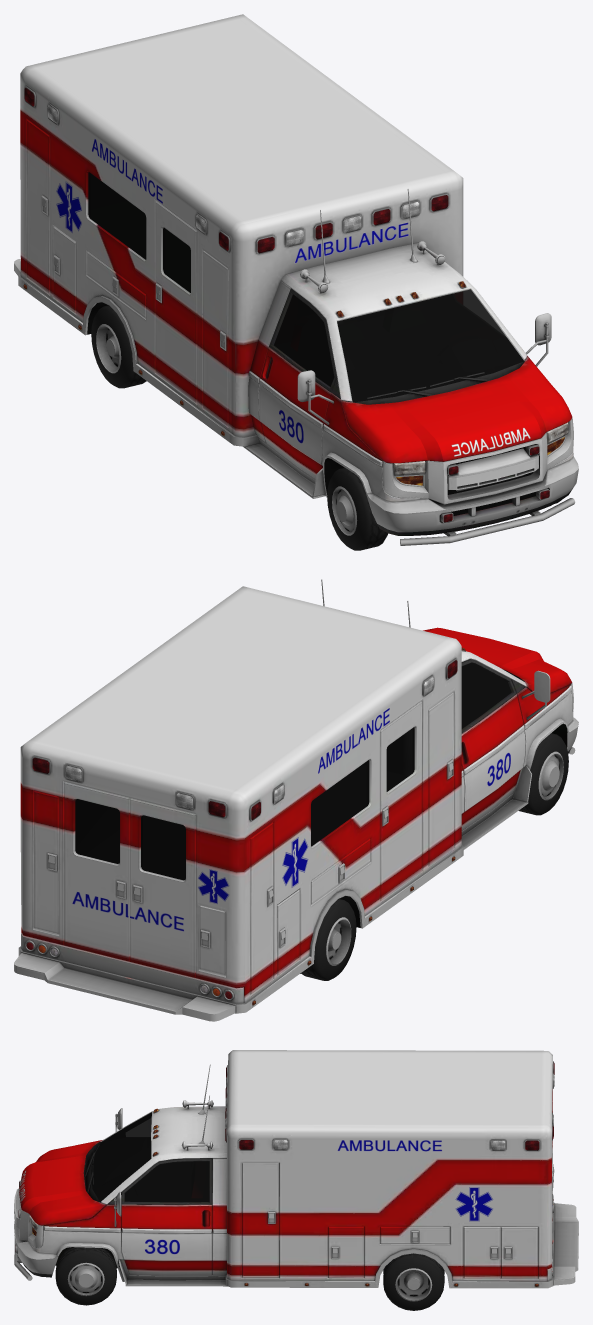
Rendered from ambulance.glb.
3 renders of one model, top to bottom at view 1: azimuth 30°, elevation 25°; view 2: azimuth 150°, elevation 25°; view 3: azimuth 270°, elevation 25°, orthographic. The views are drawn at different scales.
Visible parts, largest first — view 1: ambulance_ambulance_0, ambulance_glass_tex_0, ambulance_optics_tex_0, ambulance_decals_tex_0; view 2: ambulance_ambulance_0, ambulance_glass_tex_0, ambulance_decals_tex_0, ambulance_optics_tex_0; view 3: ambulance_ambulance_0, ambulance_glass_tex_0, ambulance_decals_tex_0, ambulance_optics_tex_0.
Part boxes in pixels (x1=…): ambulance_ambulance_0: x1=14, y1=14, x2=578, y2=550; ambulance_glass_tex_0: x1=88, y1=172, x2=523, y2=402; ambulance_optics_tex_0: x1=23, y1=88, x2=568, y2=522; ambulance_decals_tex_0: x1=56, y1=138, x2=530, y2=456; ambulance_ambulance_0: x1=14, y1=579, x2=578, y2=1021; ambulance_glass_tex_0: x1=75, y1=663, x2=511, y2=880; ambulance_decals_tex_0: x1=72, y1=707, x2=510, y2=931; ambulance_optics_tex_0: x1=26, y1=647, x2=465, y2=1005; ambulance_ambulance_0: x1=14, y1=1050, x2=578, y2=1310; ambulance_glass_tex_0: x1=91, y1=1112, x2=208, y2=1202; ambulance_decals_tex_0: x1=19, y1=1140, x2=552, y2=1254; ambulance_optics_tex_0: x1=15, y1=1062, x2=554, y2=1286.
Size of the model in its own units: 2.59 by 2.57 by 6.9.
4 materials, 4 textured.
